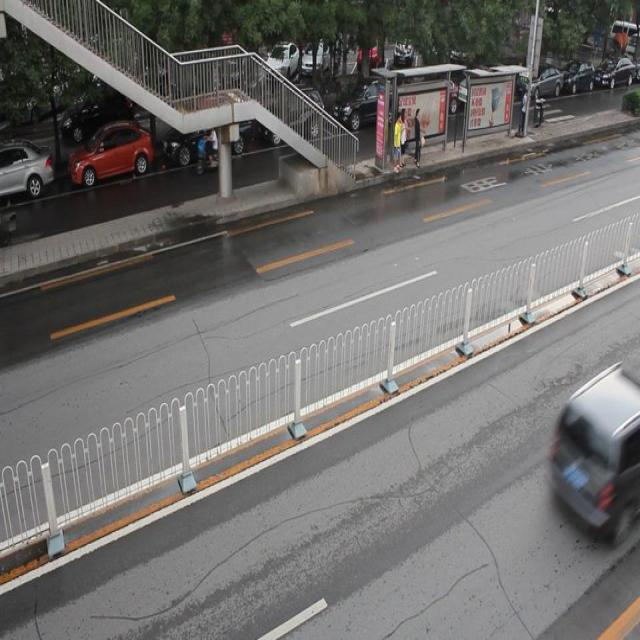car: (69, 122, 155, 187), (163, 110, 248, 168), (259, 88, 326, 149), (332, 76, 398, 133), (1, 142, 54, 202)
truck: (550, 358, 640, 536)
